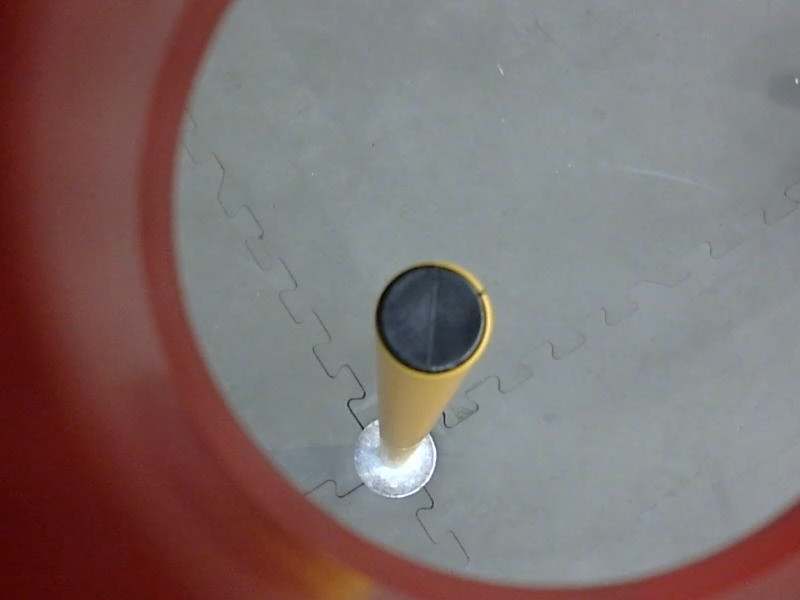tip: (368, 255, 499, 384)
